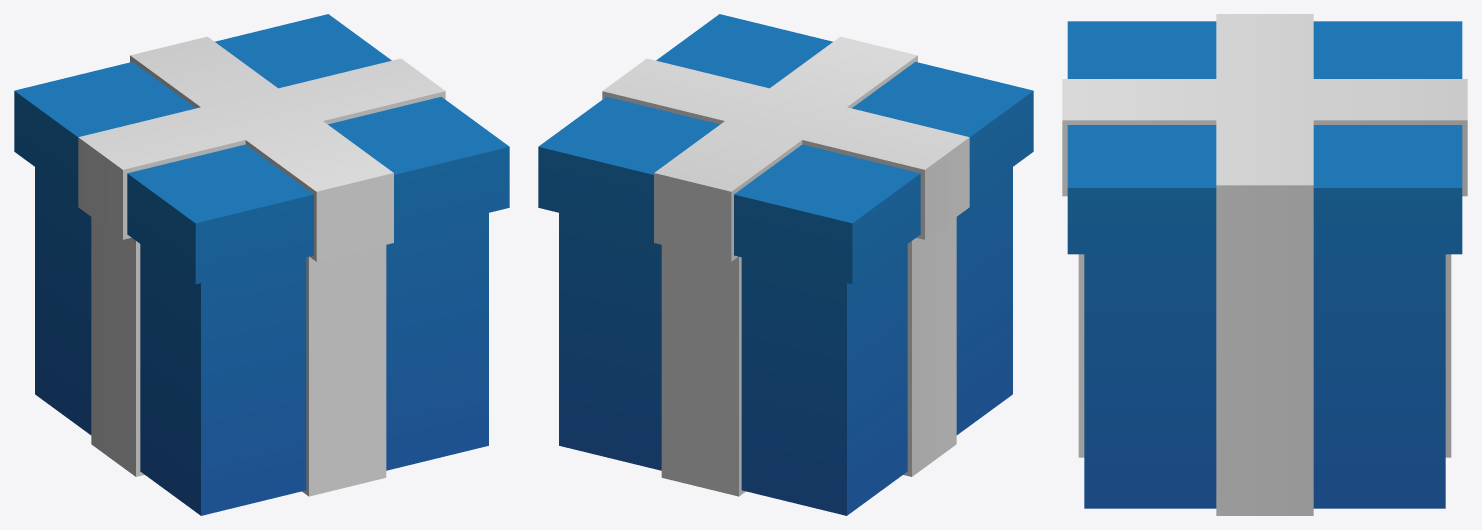
File: Blue_Noel_deco_gift_box.fbx
3 views of the same model, side by side, from view 1: azimuth 30°, elevation 25°; view 2: azimuth 150°, elevation 25°; view 3: azimuth 270°, elevation 25° (orthographic). The views are drawn at different scales.
Parts seen in each view (by area): view 1: Blue_Noel_deco_gift_box; view 2: Blue_Noel_deco_gift_box; view 3: Blue_Noel_deco_gift_box.
Boxes of the visible parts, box(x1,y1,x2,y2) form: Blue_Noel_deco_gift_box: box(14, 14, 509, 515); Blue_Noel_deco_gift_box: box(538, 14, 1033, 515); Blue_Noel_deco_gift_box: box(1062, 14, 1467, 515).
Bounding box in the file's own units: 99.07 × 91.02 × 99.07.
